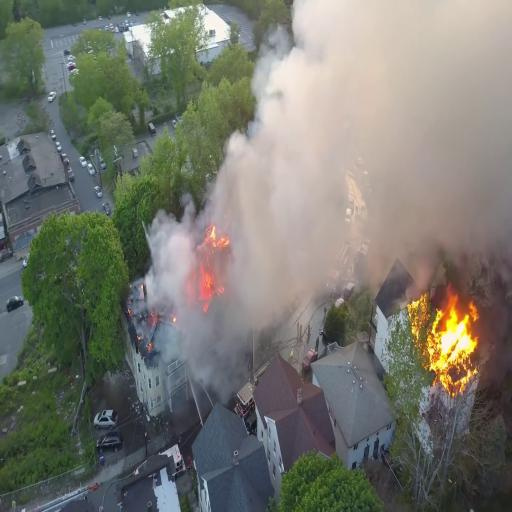fire: (412, 300, 474, 386)
smoke: (248, 171, 349, 292)
